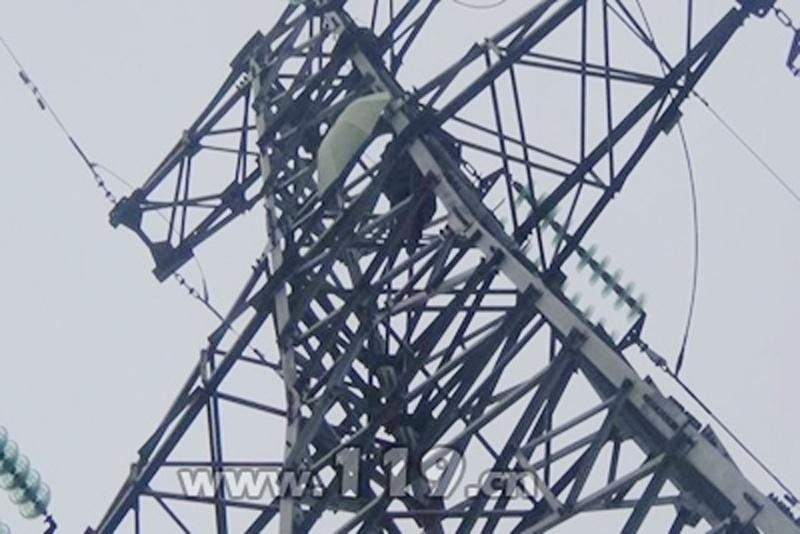power_tower: (74, 22, 757, 516)
